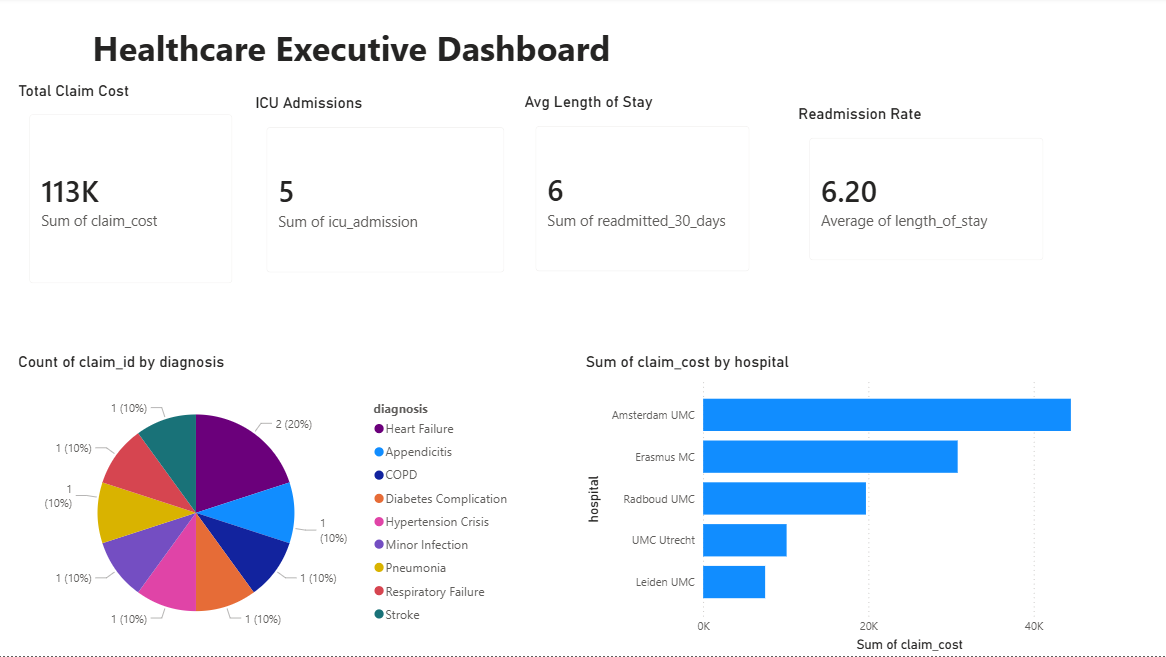

The dashboard page shown, as its layout file describes it:
{"tool":"powerbi","page":{"name":"Page 1","canvas":[1280,720],"ordinal":0},"visuals":[{"type":"barChart","fields":{"Y":["Sum(claims.claim_cost)"],"Category":["hospital_kpis.hospital"]},"box":[639.6,388.1,599.6,331.4],"z":0},{"type":"pieChart","fields":{"Category":["claims.diagnosis"],"Y":["CountNonNull(claims.claim_id)"]},"box":[19.3,388.1,553.2,331.4],"z":1000},{"type":"cardVisual","title":"Total Claim Cost","fields":{"Data":["Sum(claims.claim_cost)"]},"box":[19.3,91.6,256.6,238.6],"z":2000},{"type":"cardVisual","title":"ICU Admissions","fields":{"Data":["Sum(claims.icu_admission)"]},"box":[278.5,105.7,294,212.8],"z":3000},{"type":"cardVisual","title":"Readmission Rate","fields":{"Data":["Avg(claims.length_of_stay)"]},"box":[871.7,117.3,290.1,188.3],"z":4000},{"type":"cardVisual","title":"Avg Length of Stay","fields":{"Data":["Sum(claims.readmitted_30_days)"]},"box":[572.6,104.5,268.2,212.8],"z":5000},{"type":"textbox","box":[100.6,24.5,732.5,67.1],"z":6000}]}

Visuals, with their boxes in screenshot pixels (x1, y1, x2, y2), scaled from the page's 1280x720 canvas onto the 1166x657 screenshot:
barChart - Sum(claims.claim_cost) x hospital_kpis.hospital: bbox=[583, 354, 1129, 656]
pieChart - claims.diagnosis x CountNonNull(claims.claim_id): bbox=[18, 354, 522, 656]
"Total Claim Cost" cardVisual: bbox=[18, 84, 251, 301]
"ICU Admissions" cardVisual: bbox=[254, 96, 522, 291]
"Readmission Rate" cardVisual: bbox=[794, 107, 1058, 279]
"Avg Length of Stay" cardVisual: bbox=[522, 95, 766, 290]
textbox: bbox=[92, 22, 759, 84]
